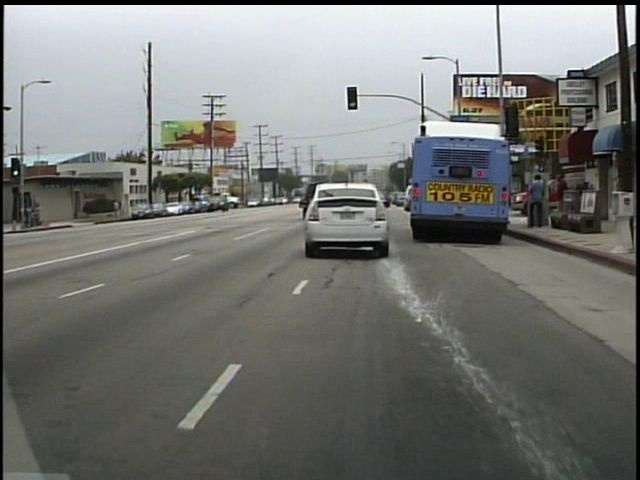person: (522, 171, 546, 232), (111, 196, 122, 218)
